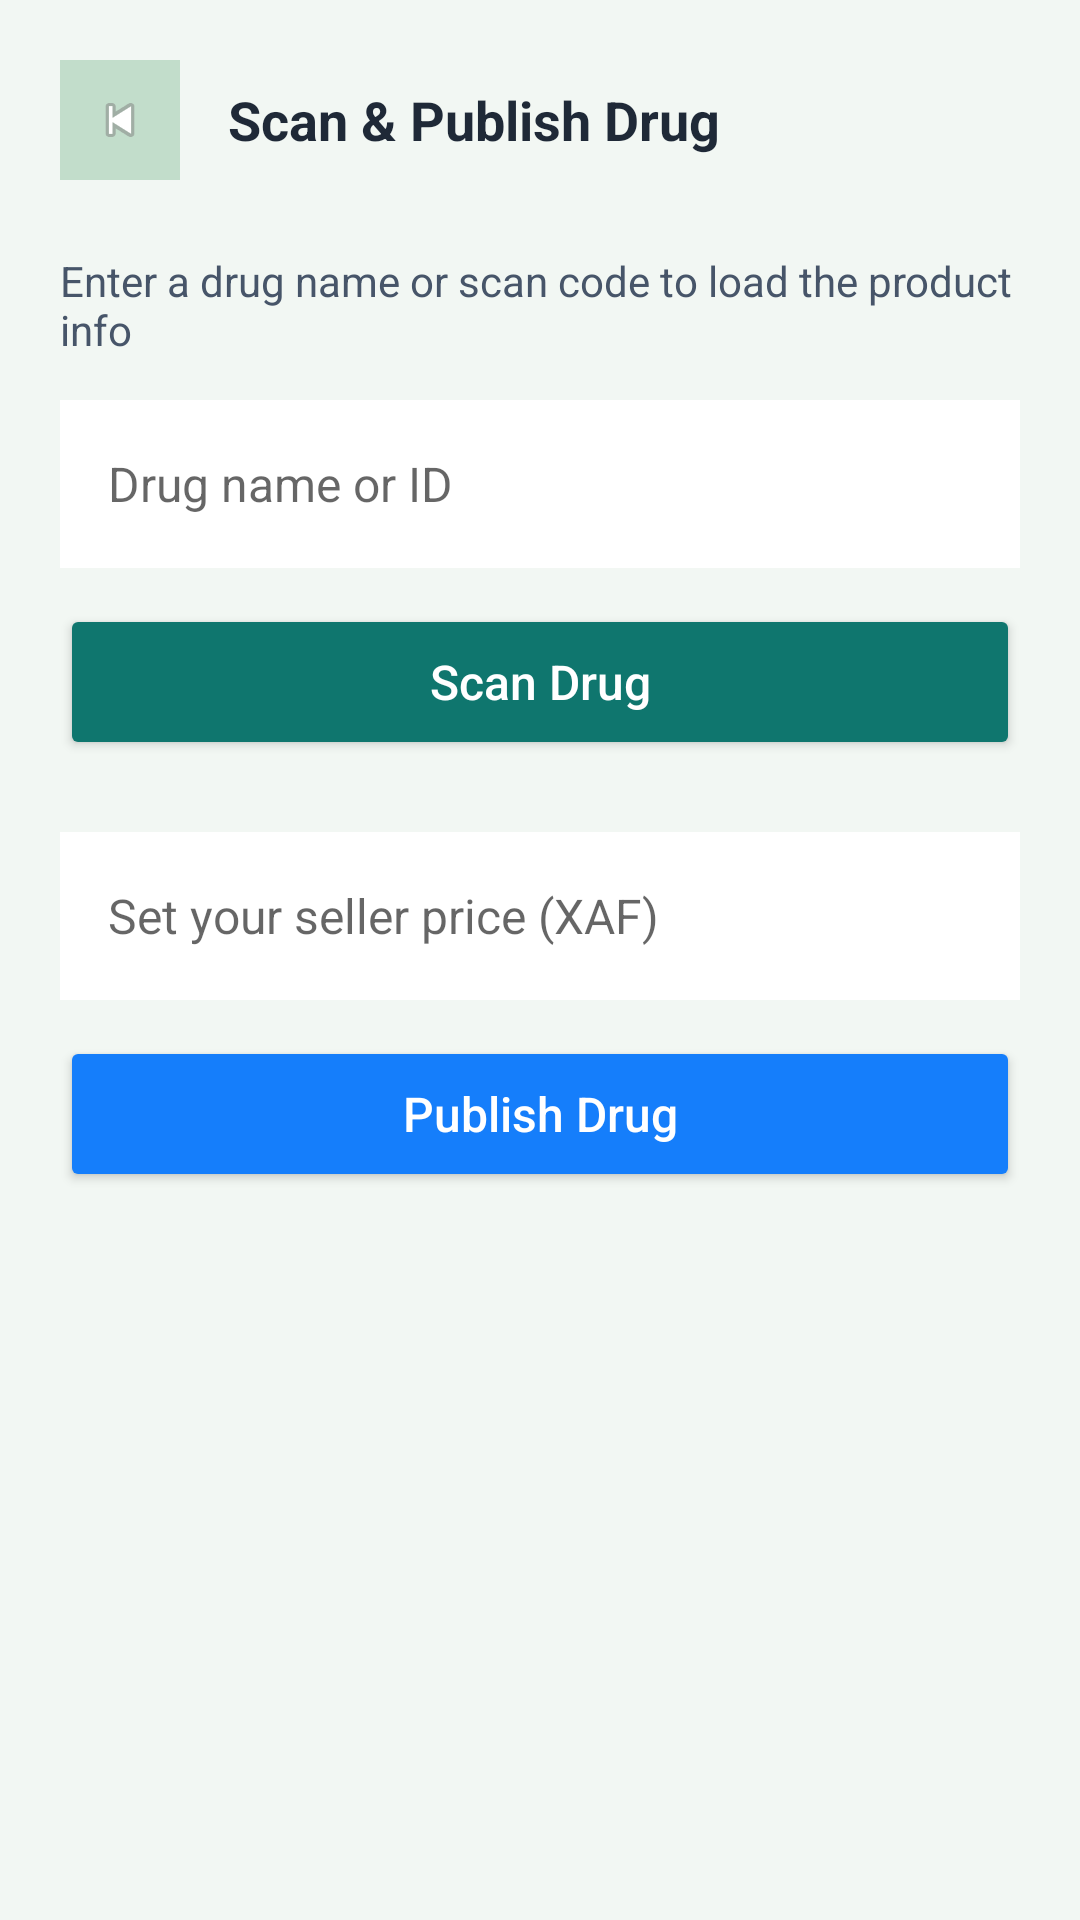

Locate icon controls on the screen. Image size 1080px×1920px, boxes as box=[x1, y1, x2, y2].
previous: box=[60, 60, 180, 180]
